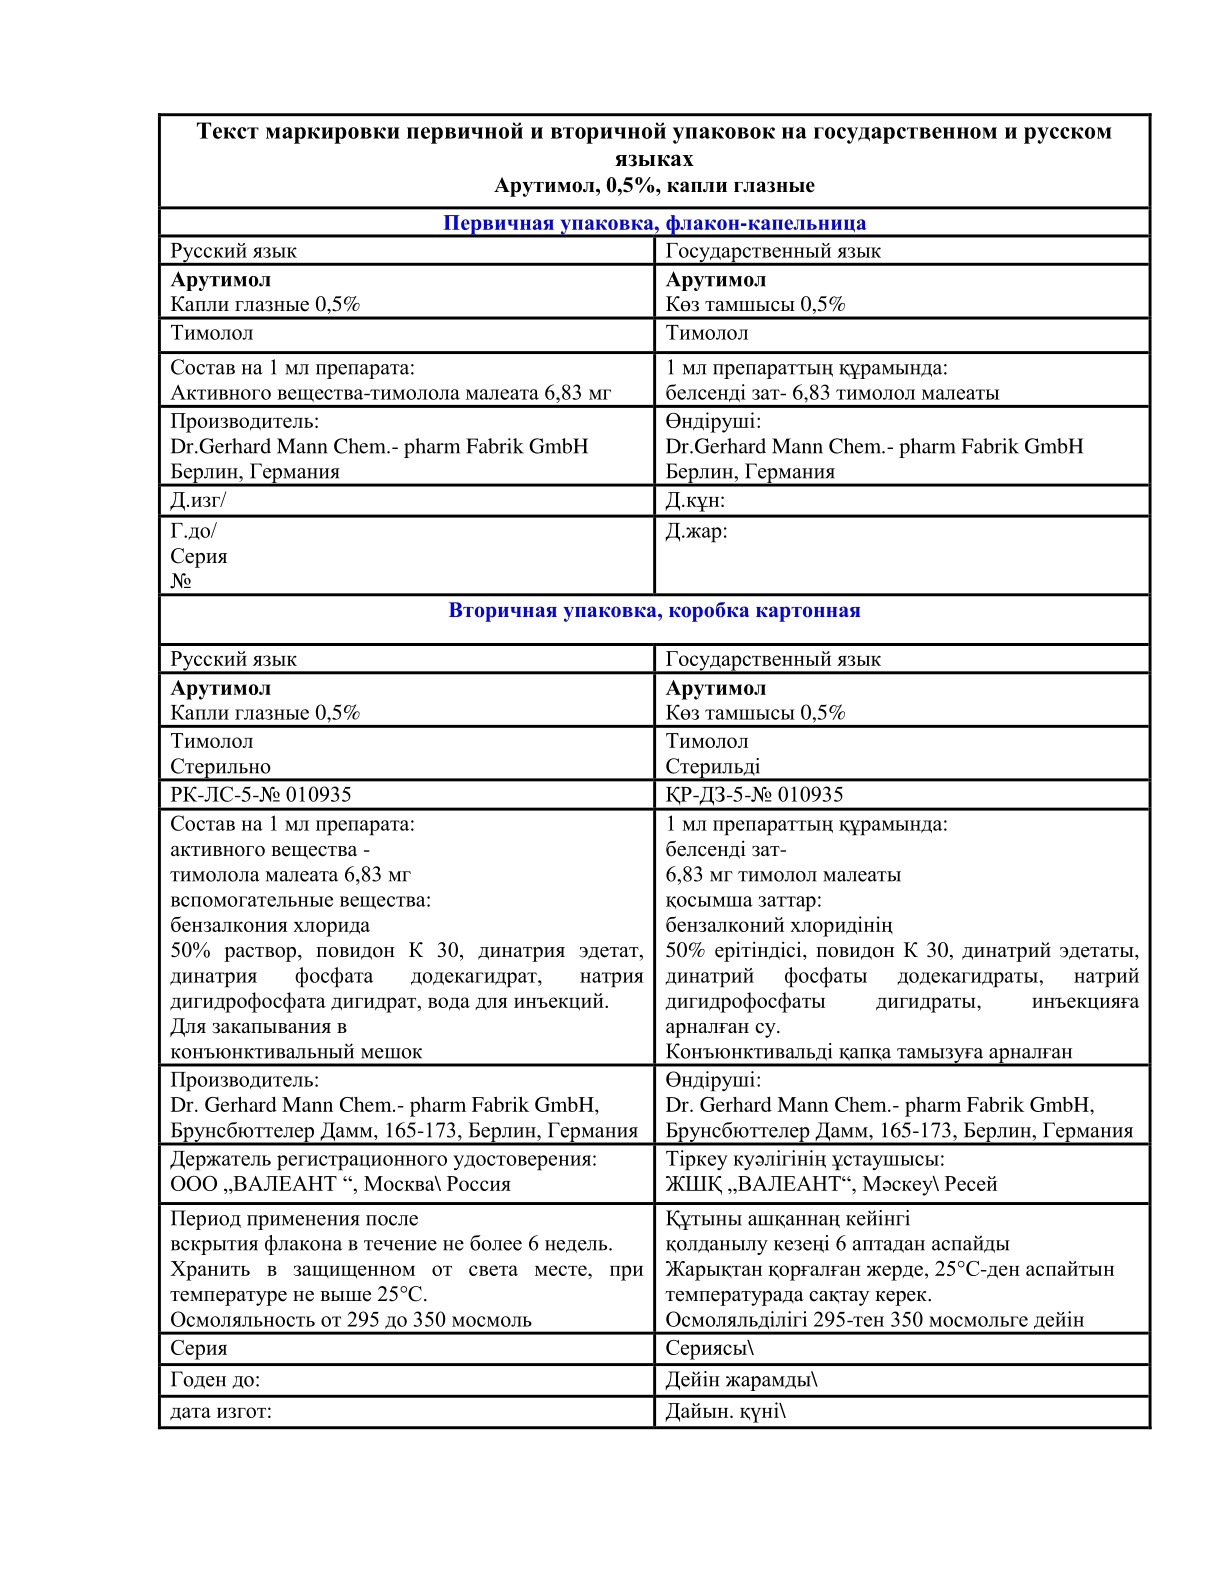merged_cells: (156, 113, 1153, 1430)
